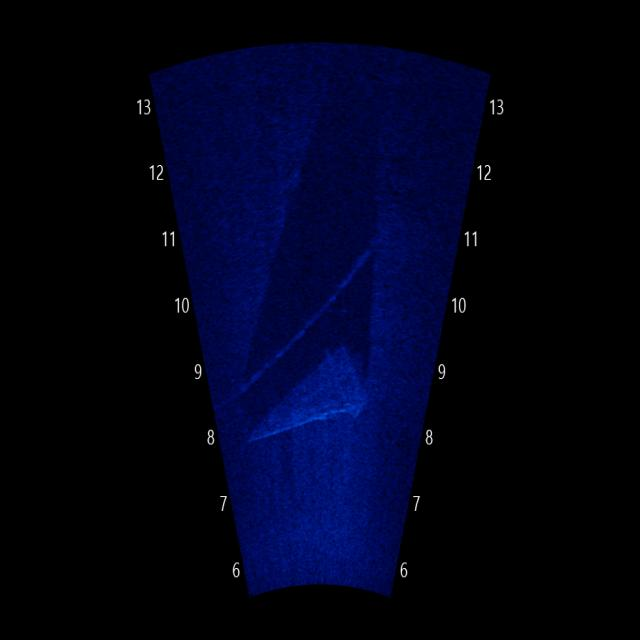triangle: (240, 331, 377, 471)
